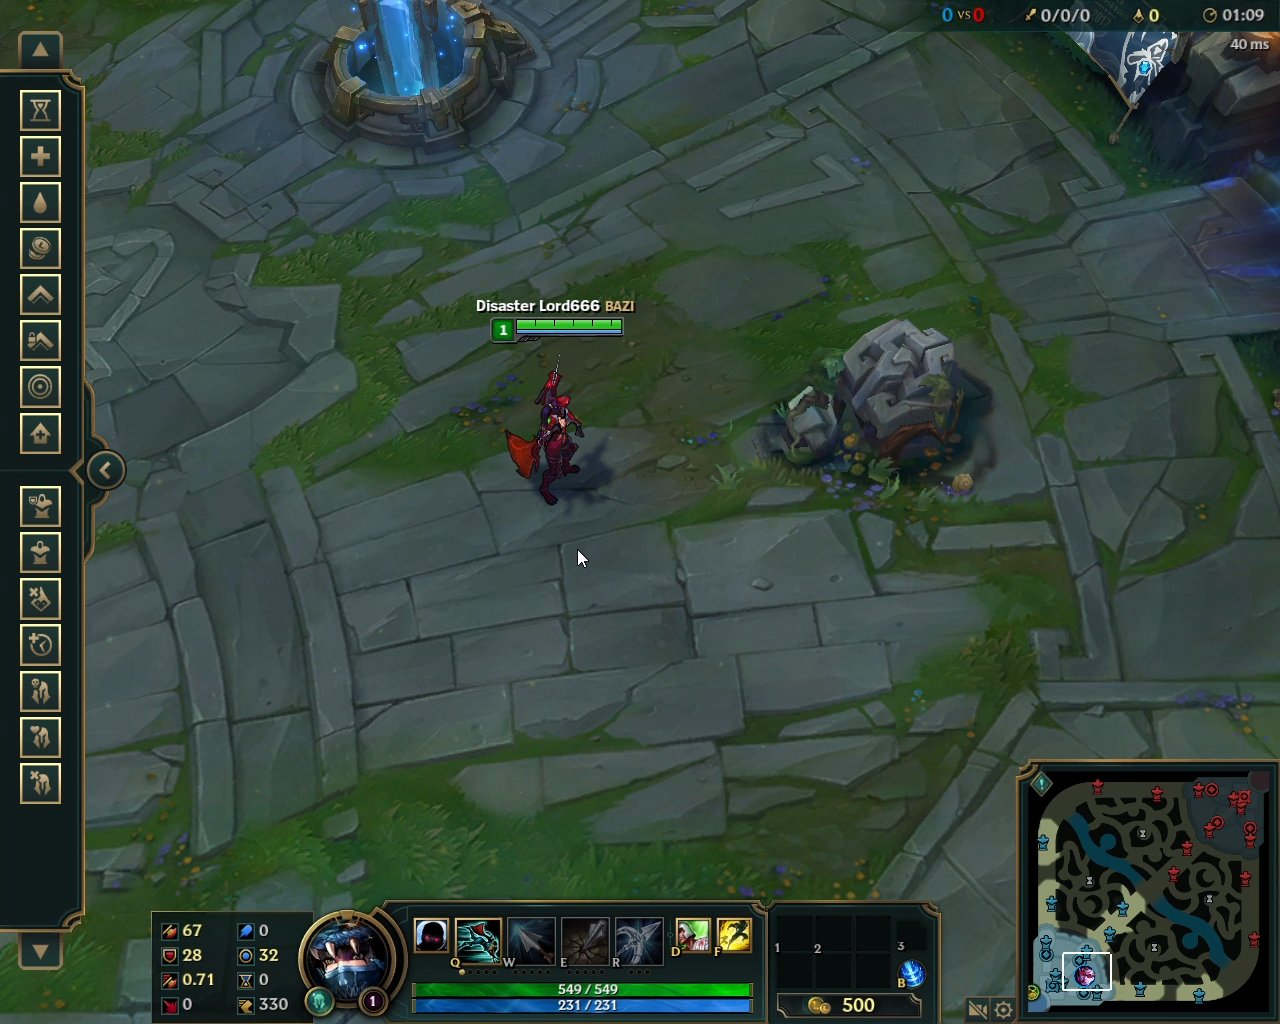Vayne: (499, 352, 595, 514)
